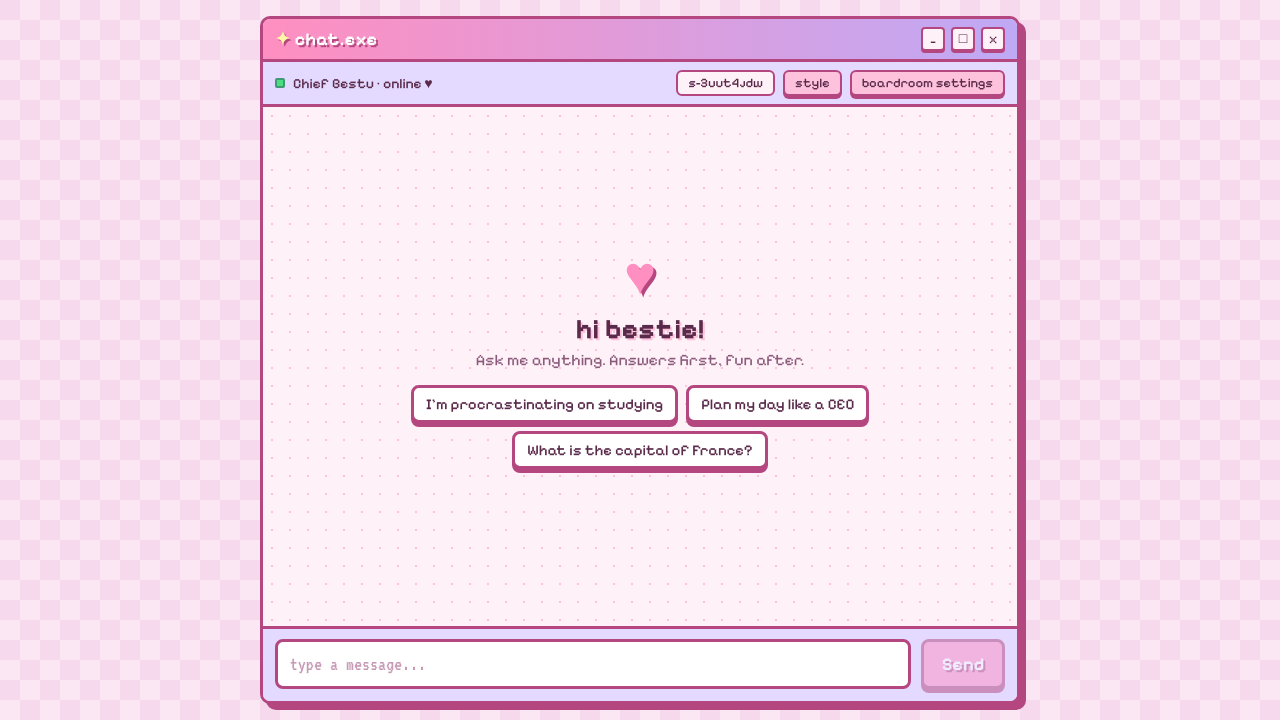
Test: 422 array detail shows a readable error, not a blank screen
Type "x" into the text box with test id "chat-input" at x=593, y=664, box [275,639,911,689]
Then press Enter
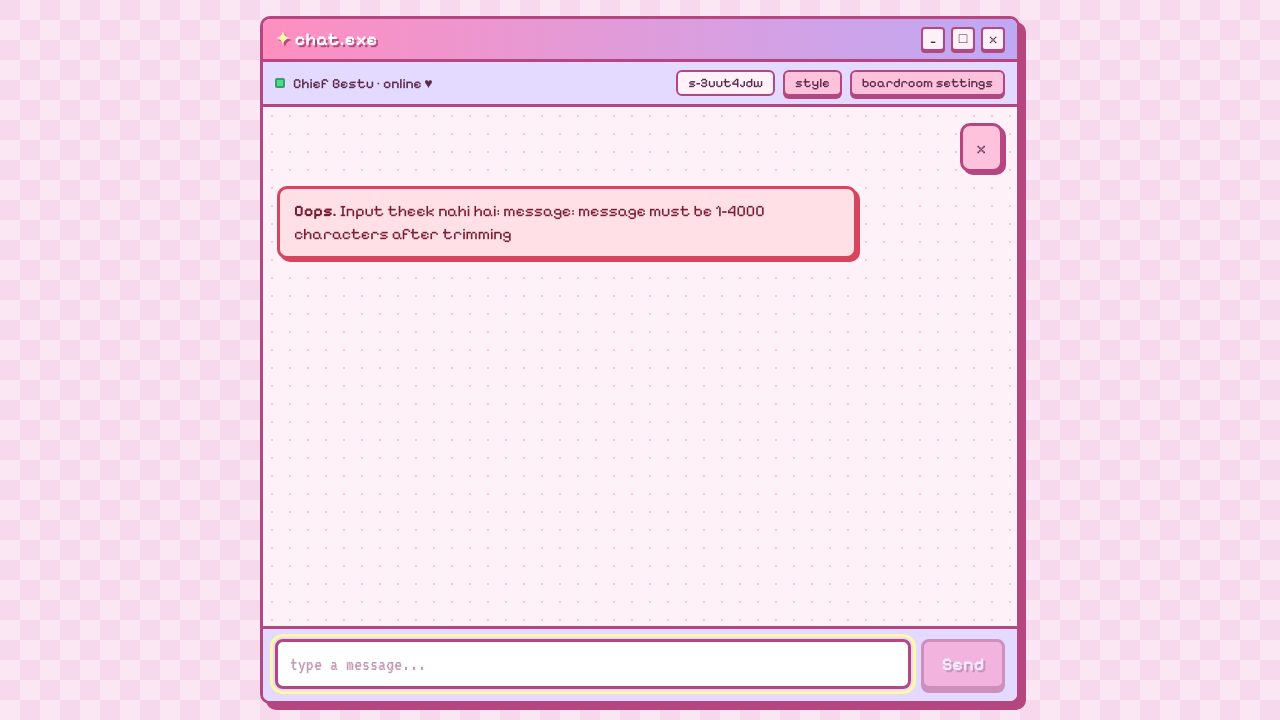
Now the message shows "message: message must be 1-4000", box [294,201,768,243]
